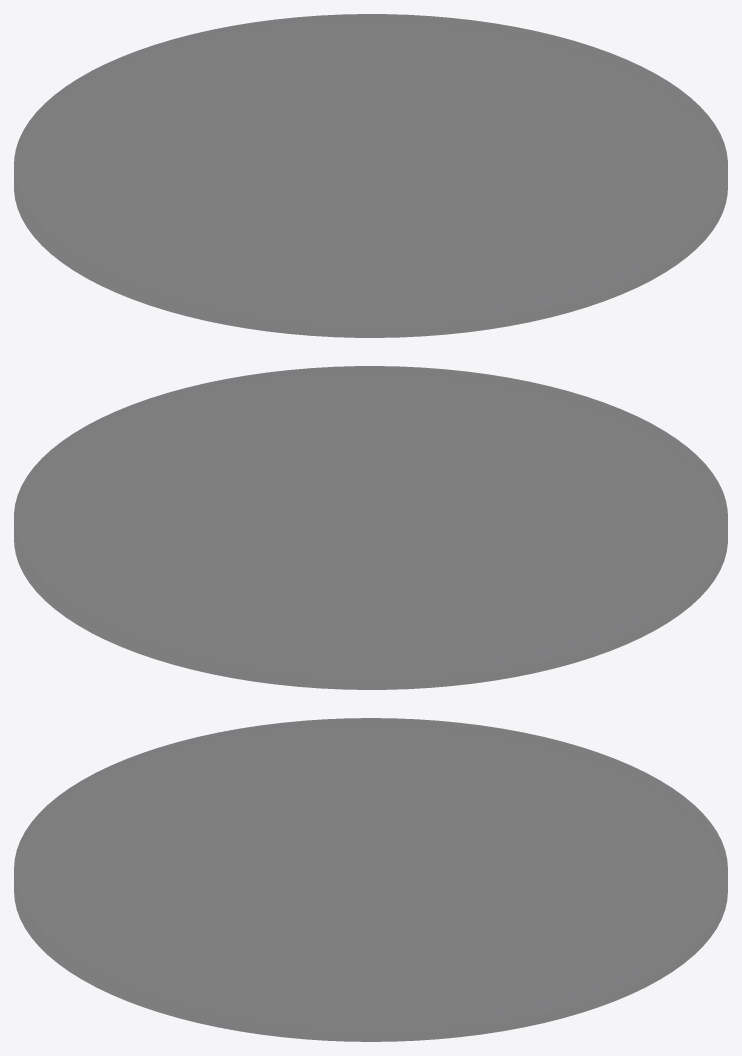
The model's file is platform.glb.
The picture shows the model from 3 angles, top to bottom: view 1: azimuth 30°, elevation 25°; view 2: azimuth 150°, elevation 25°; view 3: azimuth 270°, elevation 25°; orthographic projection.
Visible parts, largest first — view 1: Platform; view 2: Platform; view 3: Platform.
Part boxes in pixels (x1=…): Platform: x1=14, y1=14, x2=727, y2=337; Platform: x1=14, y1=366, x2=727, y2=689; Platform: x1=14, y1=718, x2=727, y2=1041.
Size of what is drawn, in the model's own units: 14.58 by 0.5 by 14.58.
Materials: 1 (1 with a texture image).
